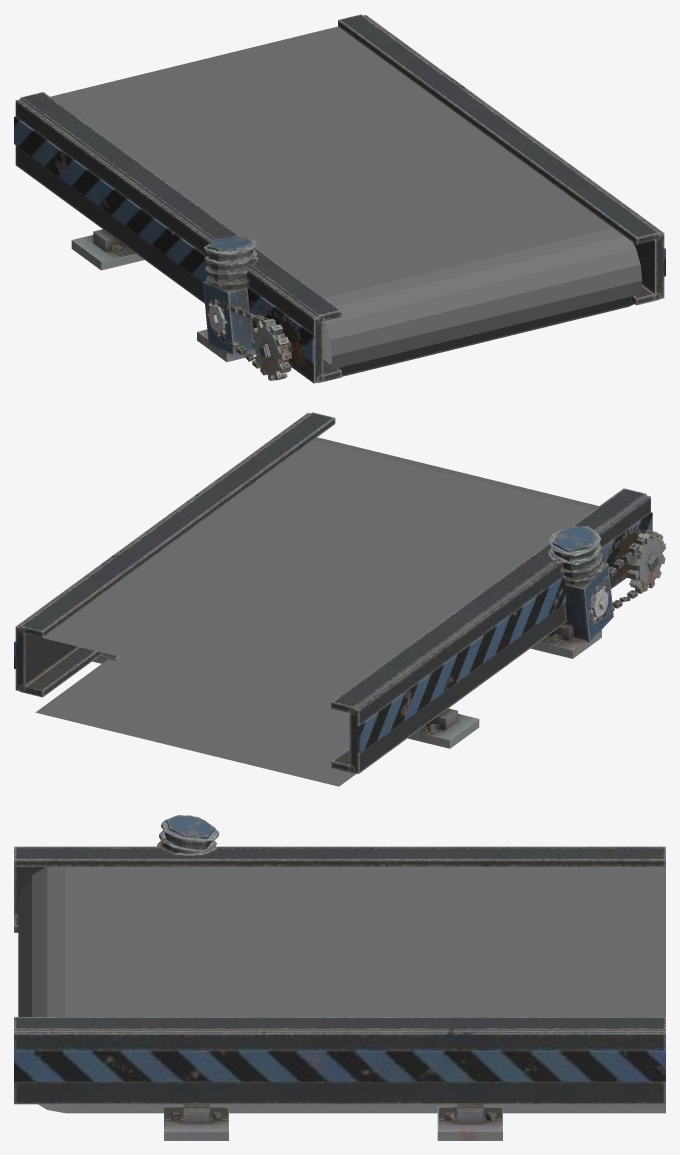
Rendered from esteira_inicio_expressa.glb.
The picture shows the model from 3 angles, top to bottom: view 1: azimuth 30°, elevation 25°; view 2: azimuth 150°, elevation 25°; view 3: azimuth 270°, elevation 25°; orthographic projection. The views are drawn at different scales.
Parts seen in each view (by area): view 1: esteira_inicio_expressa_corpo; view 2: esteira_inicio_expressa_corpo; view 3: esteira_inicio_expressa_corpo.
Boxes of the visible parts, bbox=[...] form: esteira_inicio_expressa_corpo: bbox=[14, 14, 665, 383]; esteira_inicio_expressa_corpo: bbox=[14, 412, 665, 786]; esteira_inicio_expressa_corpo: bbox=[14, 815, 665, 1140].
Bounding box in the file's own units: 0.7687 × 0.2038 × 1.
Materials: 2 (1 with a texture image).
